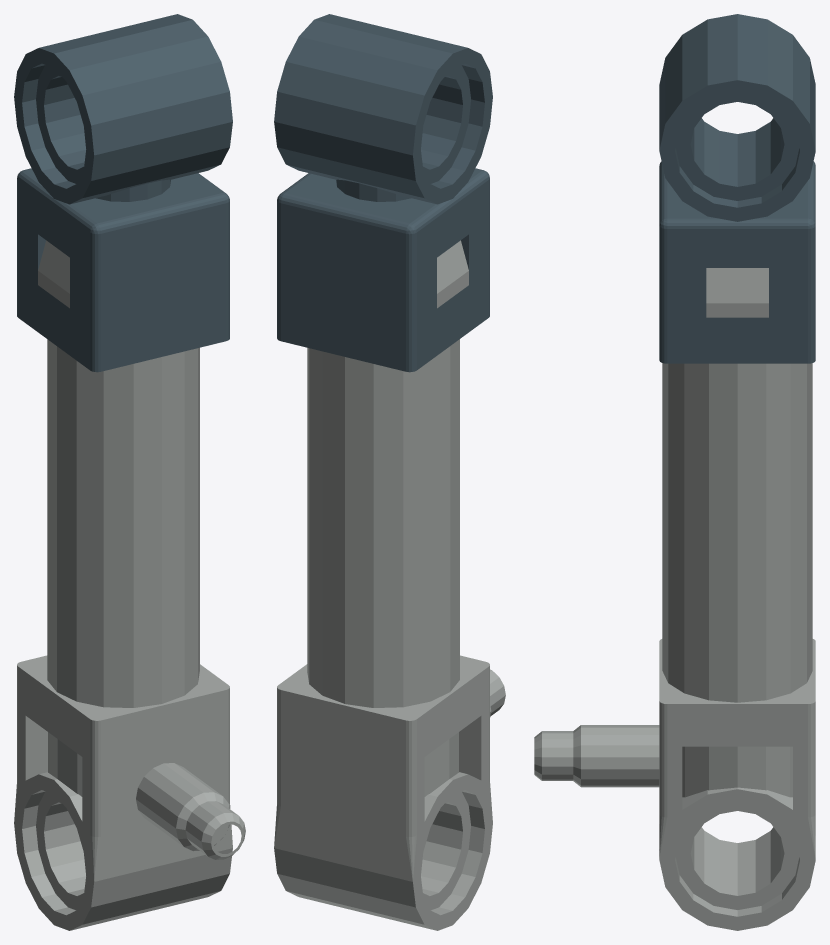
The picture shows the model from 3 angles, left to right: view 1: azimuth 30°, elevation 25°; view 2: azimuth 150°, elevation 25°; view 3: azimuth 270°, elevation 25°; orthographic projection. The views are drawn at different scales.
Visible parts, largest first — view 1: world; view 2: world; view 3: world.
Boxes of the visible parts, x1,y1,x2,y2 form: world: (14, 14, 245, 930); world: (274, 14, 505, 930); world: (534, 14, 815, 930).
Bounding box in the file's own units: 0.008 × 0.048 × 0.0144.
